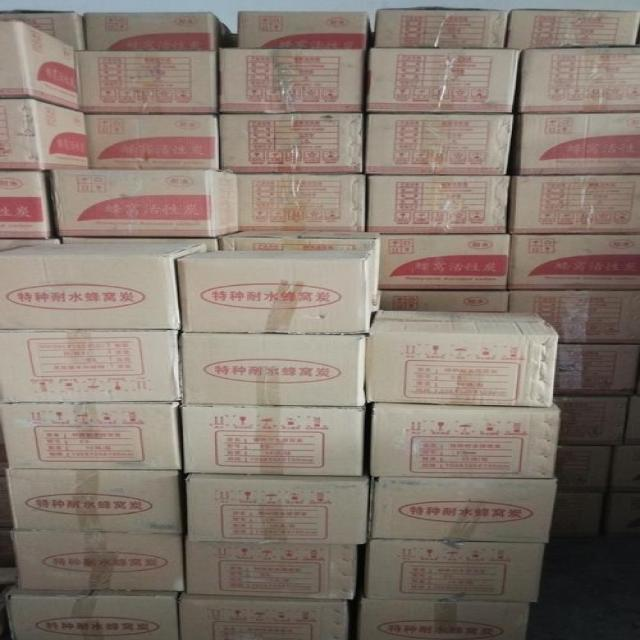box: (362, 309, 561, 408), (0, 242, 209, 329), (175, 248, 371, 336), (204, 228, 383, 312), (370, 404, 561, 480), (179, 333, 367, 408), (179, 403, 366, 478), (0, 328, 182, 404), (45, 168, 241, 237), (187, 472, 374, 544), (370, 474, 559, 545), (8, 467, 183, 536), (0, 403, 180, 470), (369, 538, 547, 603), (362, 48, 524, 114), (188, 539, 357, 600), (13, 534, 187, 593), (212, 50, 365, 116), (362, 110, 517, 175), (3, 583, 177, 640), (215, 110, 370, 171), (81, 50, 218, 113), (367, 174, 509, 234), (515, 45, 640, 113), (507, 174, 640, 237), (234, 170, 367, 231), (84, 112, 221, 170), (177, 595, 349, 639), (380, 234, 511, 291), (0, 20, 81, 112), (521, 113, 640, 175), (509, 234, 637, 291), (358, 598, 531, 639), (0, 95, 92, 170), (509, 291, 637, 343), (81, 12, 239, 52), (236, 7, 375, 50), (375, 4, 508, 48), (504, 6, 639, 45), (556, 341, 640, 394), (0, 8, 88, 51), (556, 394, 630, 444), (0, 169, 51, 241), (380, 289, 512, 312), (558, 444, 620, 492)
